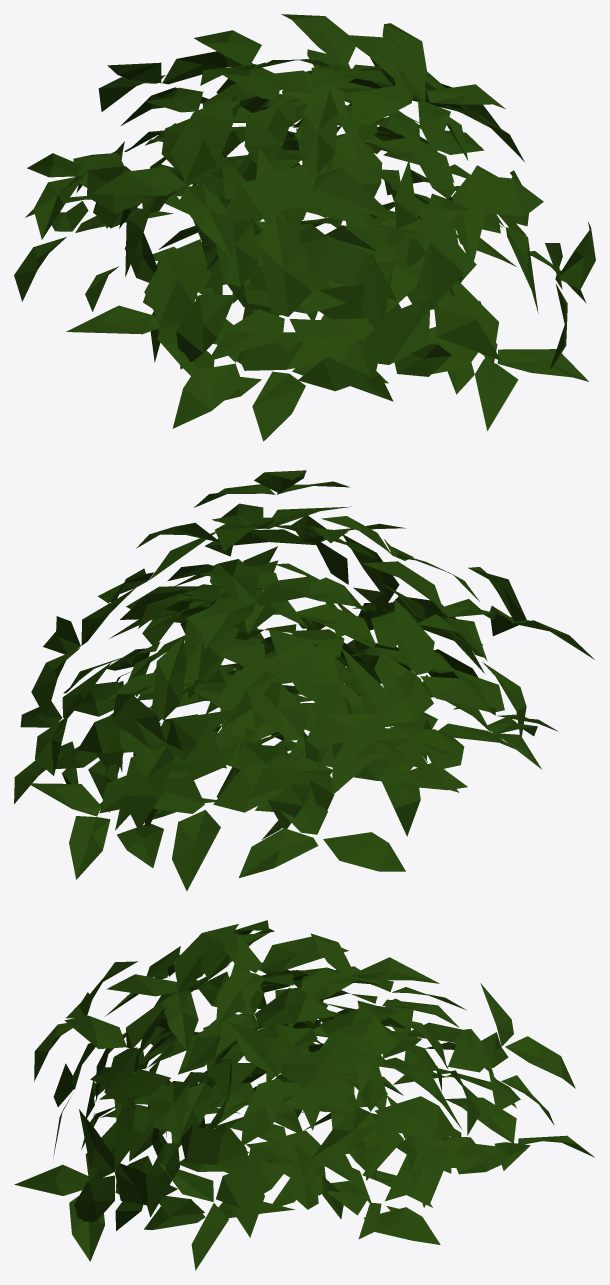
File: bush.FBX
3 views of the same model, one above another, from view 1: azimuth 30°, elevation 25°; view 2: azimuth 150°, elevation 25°; view 3: azimuth 270°, elevation 25° (orthographic). The views are drawn at different scales.
Visible parts, largest first — view 1: bush1; view 2: bush1; view 3: bush1.
Part boxes in pixels (x1,y1,x2,y2): bush1: (14, 14, 595, 441); bush1: (14, 470, 594, 891); bush1: (14, 920, 594, 1270).
Bounding box in the file's own units: 22.12 × 14.39 × 27.
